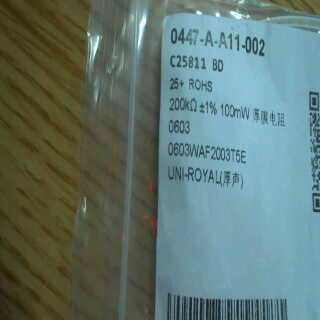200kR: (164, 92, 201, 117)
